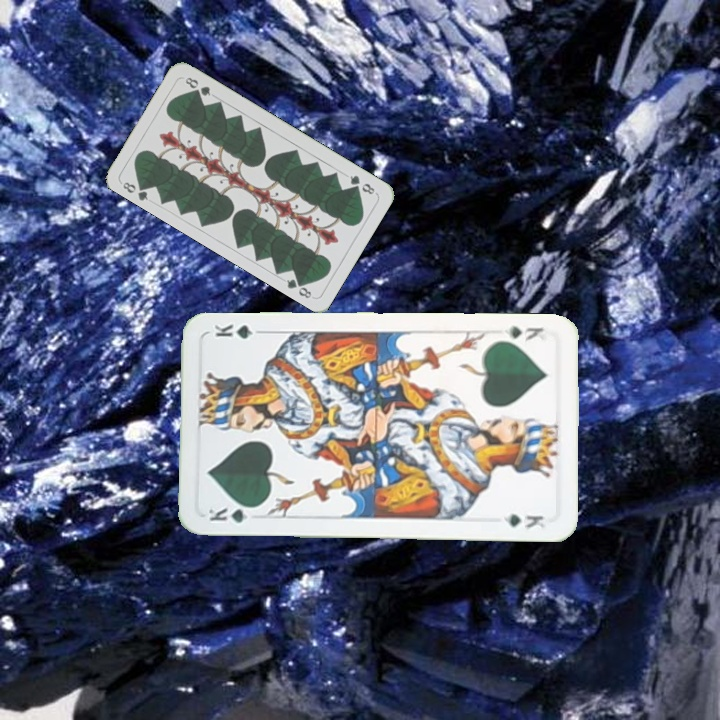G8: (345, 171, 378, 197), (118, 178, 151, 203)
GK: (204, 503, 262, 526), (500, 322, 546, 343)
